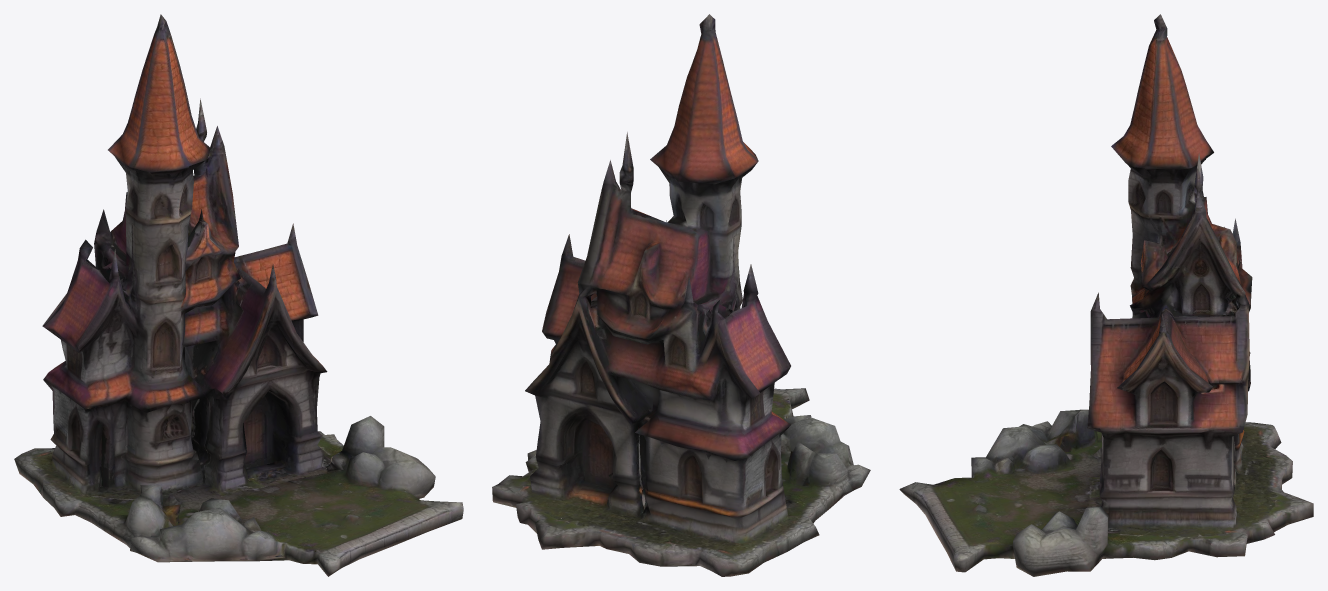
Rendered from env_house.glb.
3 views of the same model, side by side, from view 1: azimuth 30°, elevation 25°; view 2: azimuth 150°, elevation 25°; view 3: azimuth 270°, elevation 25° (orthographic). The views are drawn at different scales.
Size of the model in its own units: 1.28 by 1.88 by 1.52.
1 material, 1 textured.
